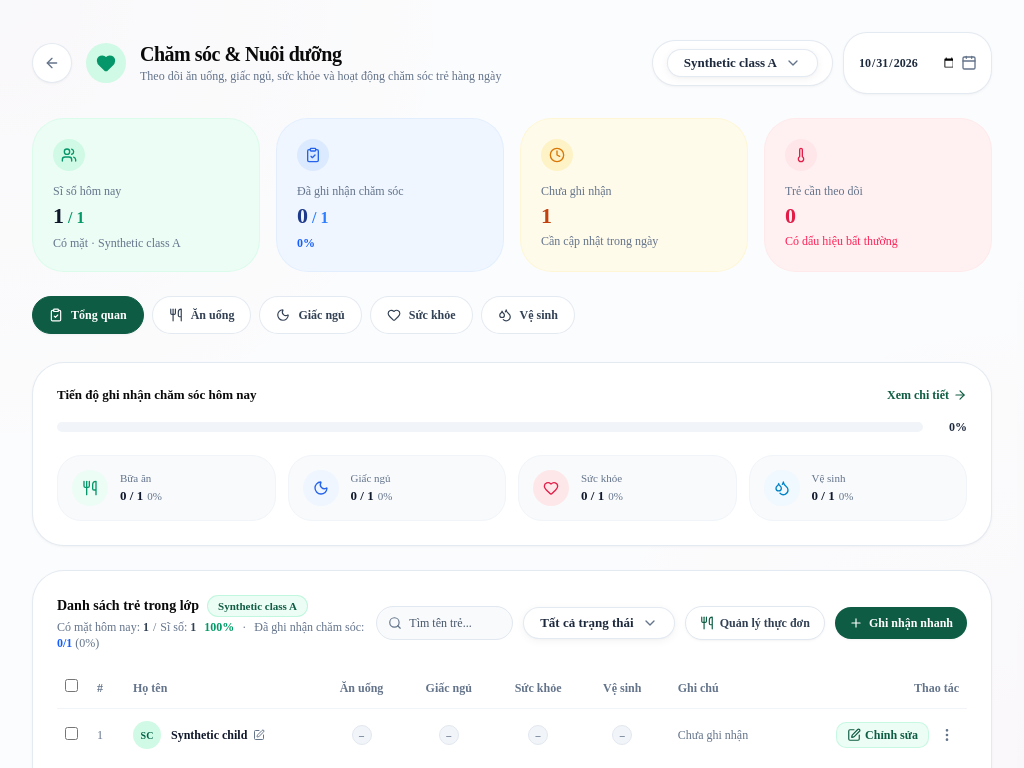
Test: A denied save keeps the quick editor and a visible error without claiming success
The image size is (1024, 768).
expect the text "Synthetic child" is shown: met, box x1=171 y1=727 x2=247 y2=743
Click the button "Ghi nhận nhanh" at (901, 623), box x1=835 y1=607 x2=967 y2=639
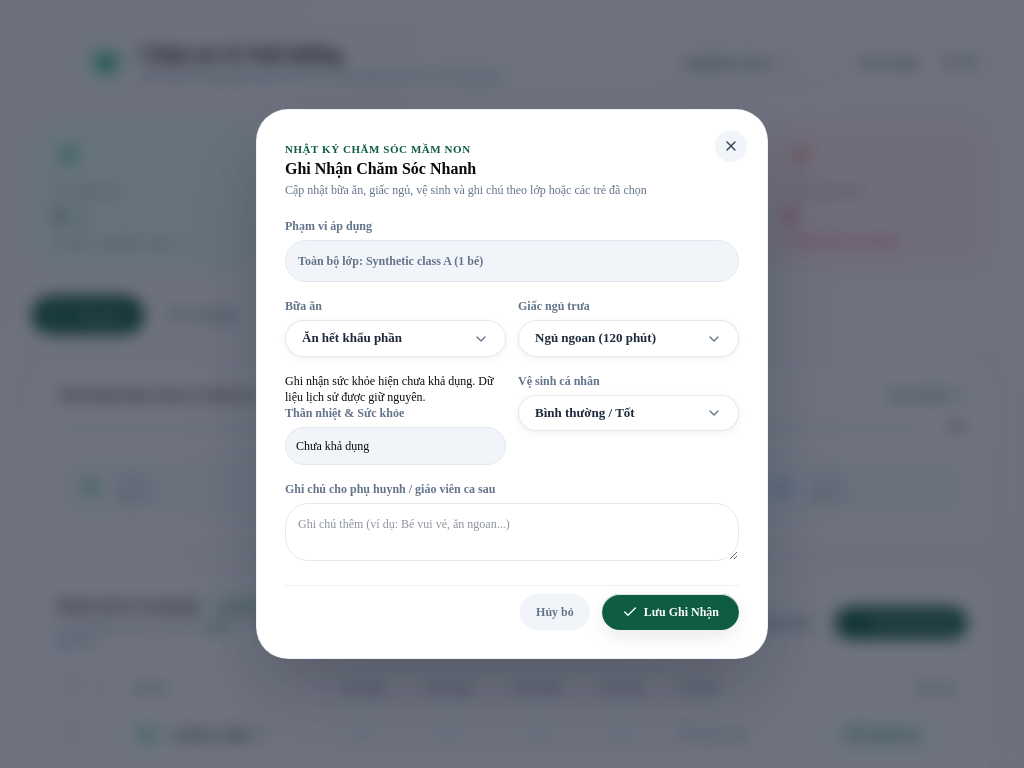
expect the field labelled "Thân nhiệt & Sức khỏe" is disabled: met, box x1=285 y1=427 x2=506 y2=465
Type "Synthetic unsaved draft" into the text box labelled "Ghi chú cho phụ huynh / giáo viên ca sau" at (512, 532), box x1=285 y1=503 x2=739 y2=561
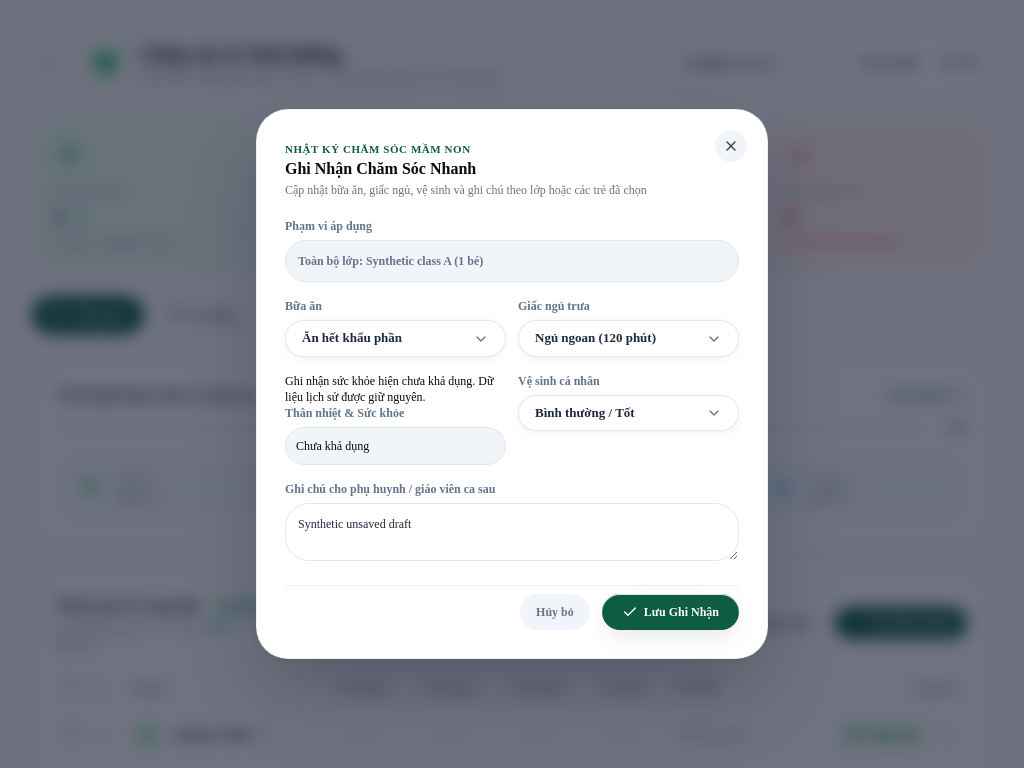
Click the button "Lưu Ghi Nhận" at (670, 612), box x1=602 y1=594 x2=739 y2=630
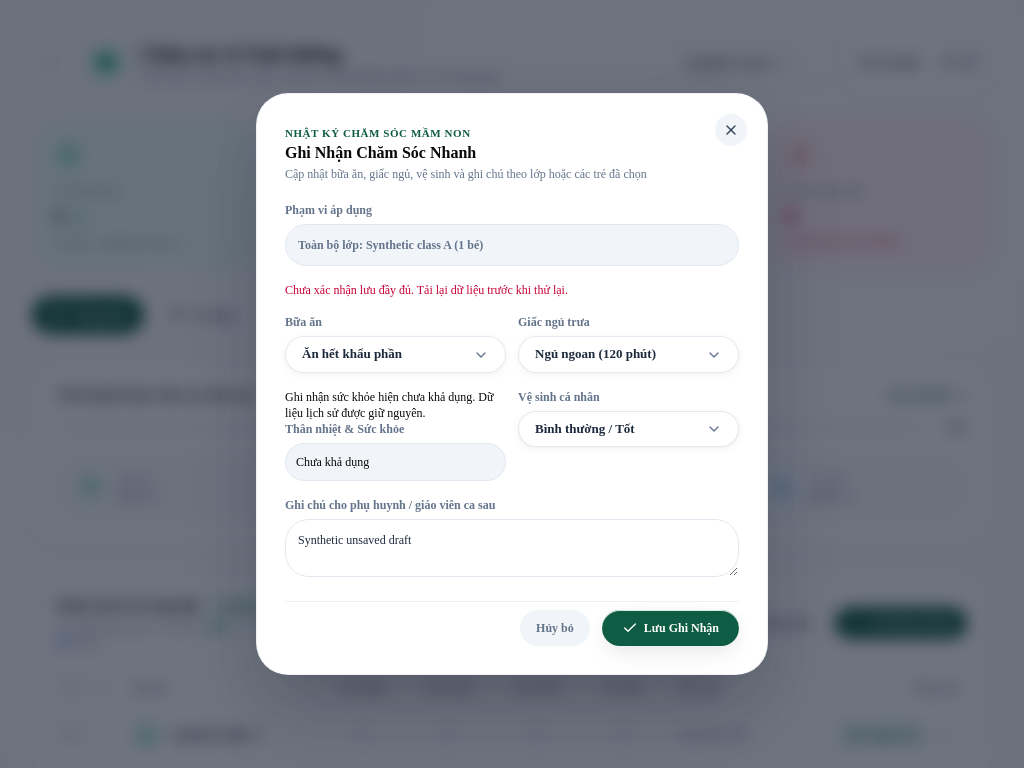
expect the dialog "Ghi Nhận Chăm Sóc Nhanh" is shown: met, box x1=256 y1=93 x2=768 y2=675
expect the message shows "Chưa xác nhận lưu đầy đủ": met, box x1=285 y1=283 x2=568 y2=297
